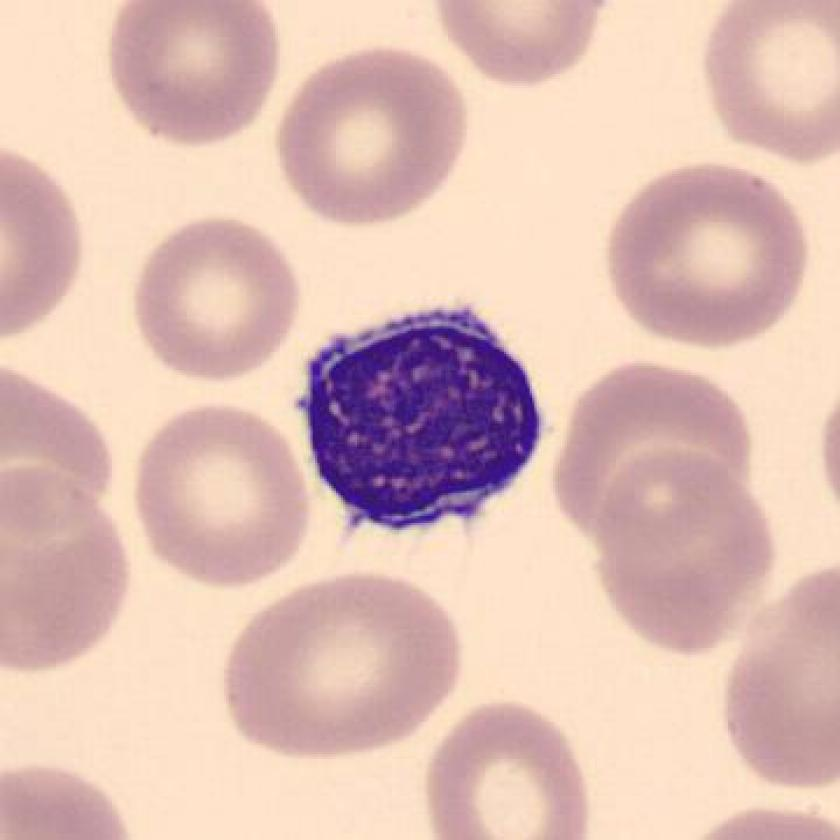lymphocyte: (286, 295, 559, 549)
